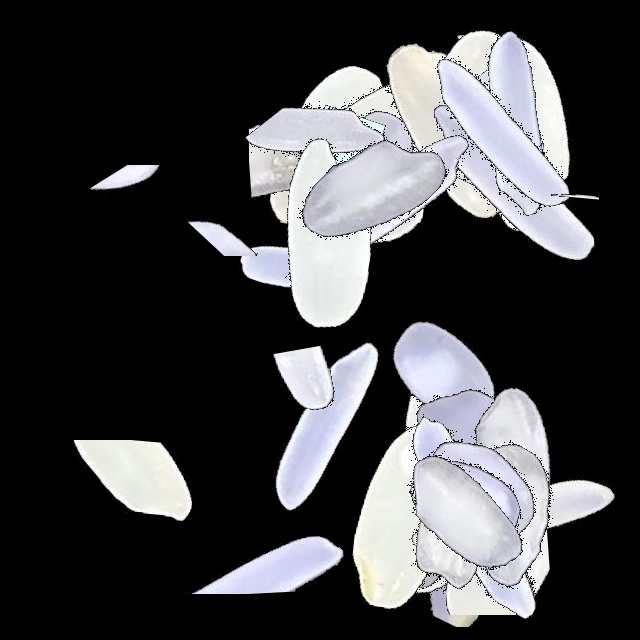Broken: (378, 32, 628, 206), (350, 460, 600, 627), (340, 452, 590, 615), (214, 86, 464, 249), (255, 63, 409, 313), (390, 66, 640, 216), (2, 440, 252, 581), (249, 33, 389, 283), (215, 134, 349, 384), (121, 469, 371, 594), (390, 30, 640, 146), (250, 281, 365, 531), (423, 0, 537, 250), (340, 79, 451, 329), (17, 165, 267, 270), (119, 153, 369, 256), (405, 390, 497, 640), (521, 31, 599, 281)
Full: (352, 390, 602, 640), (390, 0, 640, 250), (202, 78, 452, 328), (207, 40, 457, 290), (332, 390, 582, 640), (227, 29, 477, 279), (363, 1, 613, 251), (331, 325, 581, 575), (243, 46, 493, 296), (326, 0, 576, 250), (334, 390, 584, 640), (301, 390, 551, 640), (390, 56, 640, 306), (202, 297, 452, 547), (348, 390, 598, 640), (280, 390, 530, 640), (318, 241, 568, 491), (346, 310, 596, 560), (350, 390, 600, 640), (388, 390, 638, 640), (258, 76, 508, 326), (335, 390, 585, 640), (390, 330, 640, 580), (383, 390, 633, 640), (358, 362, 608, 612), (204, 111, 454, 361), (376, 5, 626, 255), (339, 376, 589, 626), (337, 390, 587, 640), (247, 67, 497, 317)
